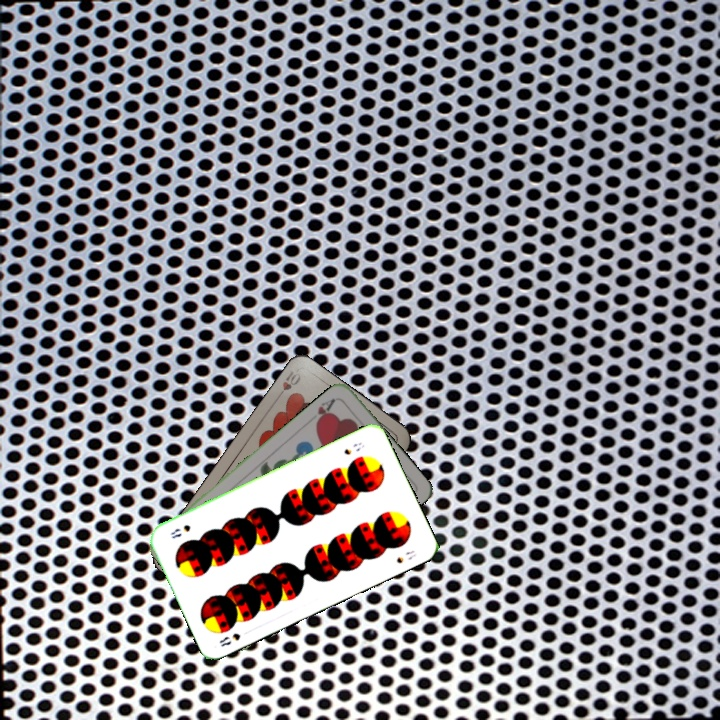H10: (272, 366, 303, 402)
HA: (311, 394, 338, 428)
S8: (215, 629, 243, 649), (340, 438, 367, 458)
